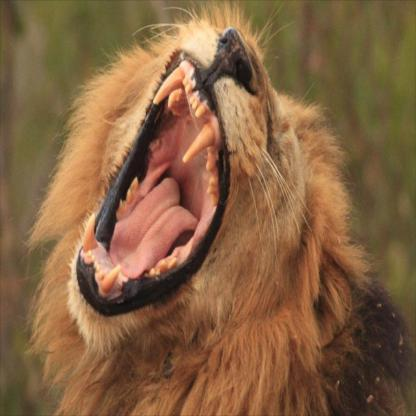lion: (54, 14, 298, 367)
